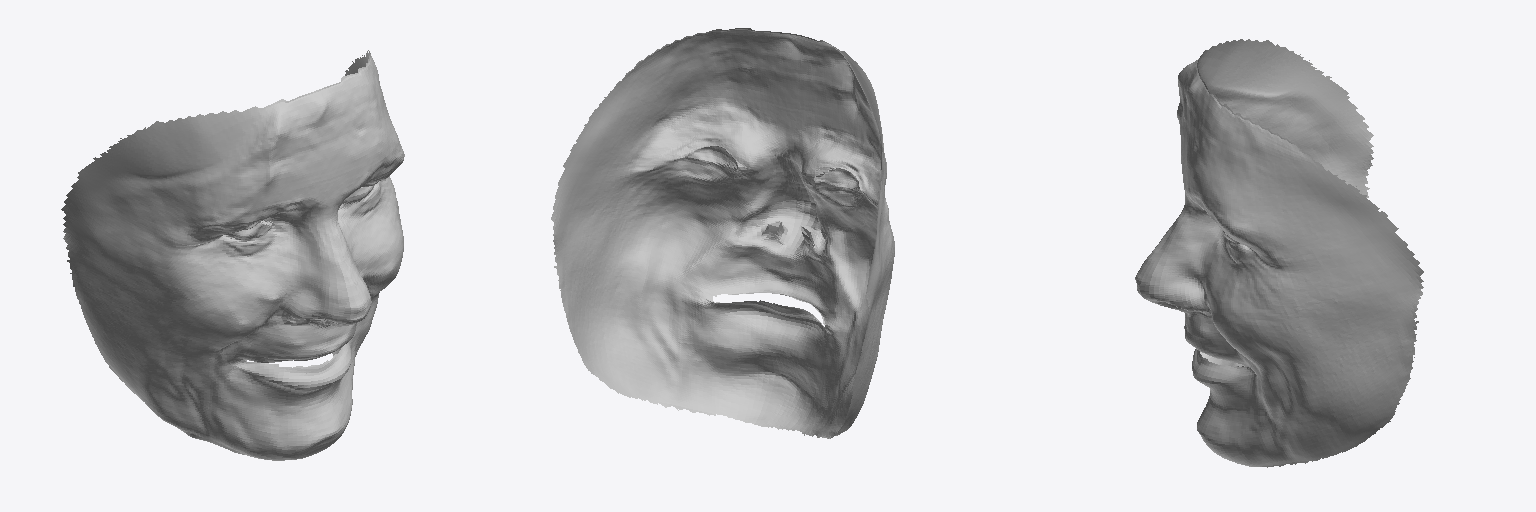
File: 00521_0_hrn_high_mesh.obj
The picture shows the model from 3 angles: view 1: azimuth 30°, elevation 25°; view 2: azimuth 150°, elevation 25°; view 3: azimuth 270°, elevation 25°; orthographic projection.
Bounding box in the file's own units: 1.46 × 1.8 × 1.23.